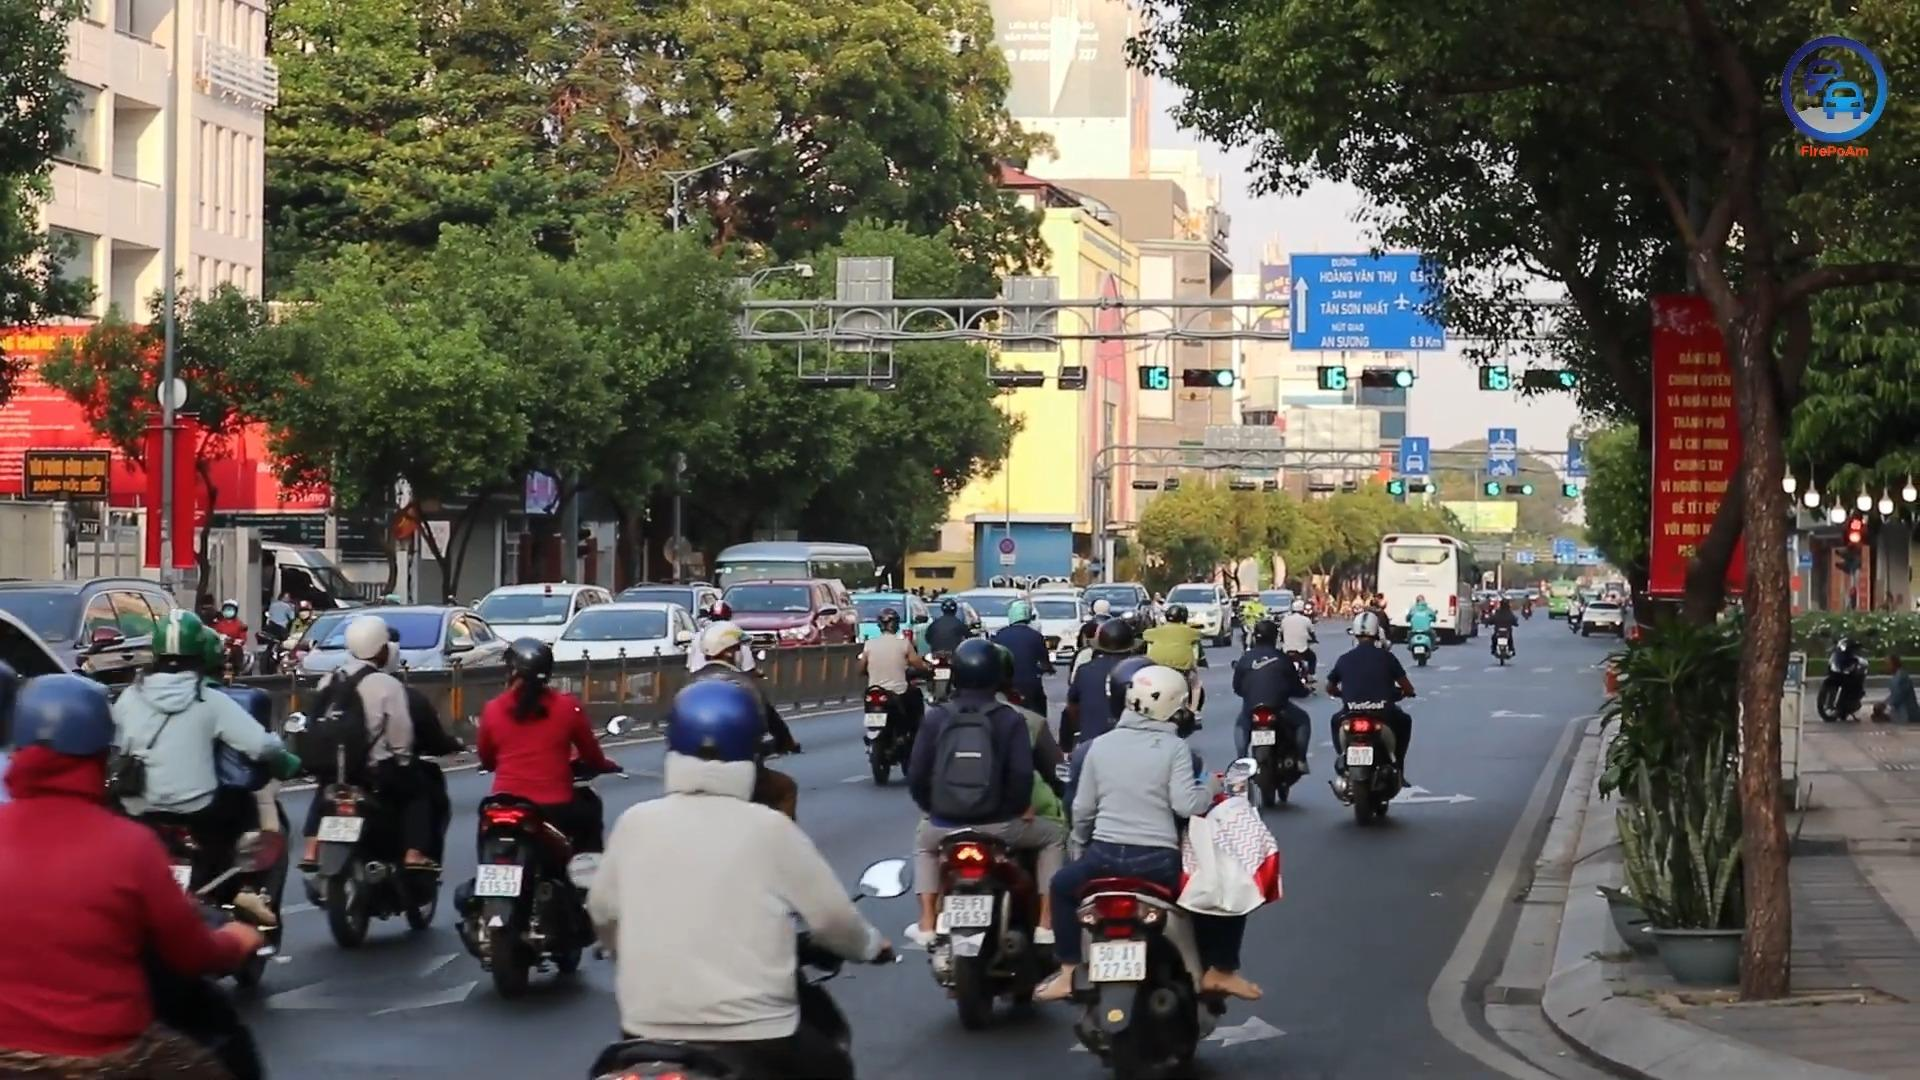bien_so: (1086, 938, 1148, 983), (941, 893, 995, 928), (472, 863, 524, 898), (315, 814, 366, 844), (1345, 745, 1374, 766), (1250, 729, 1277, 747), (862, 711, 888, 728)
